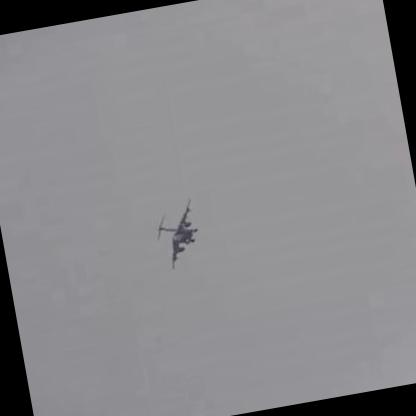plane: (145, 194, 206, 272)
